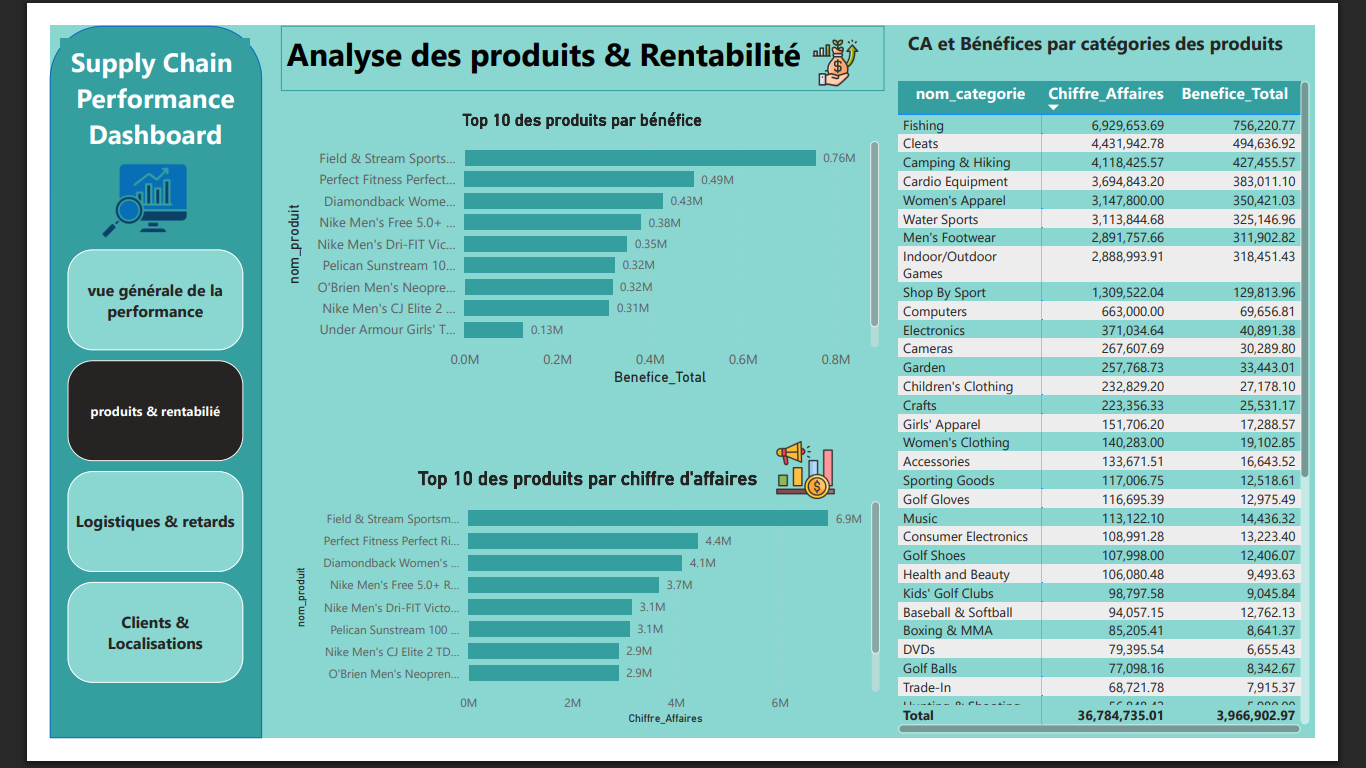

The dashboard page shown, as its layout file describes it:
{"tool":"powerbi","page":{"name":"produits & rentabilié","canvas":[1280,720],"ordinal":1},"visuals":[{"type":"textbox","box":[233.8,0,611.2,66.2],"z":0},{"type":"clusteredBarChart","title":"Top 10 des produits par chiffre d''affaires","fields":{"Category":["Produits.nom_produit"],"Y":["mesures.Chiffre_Affaires"]},"box":[243.8,446.2,601.2,265],"z":1000},{"type":"shape","box":[0,0,215,720],"z":2000},{"type":"clusteredBarChart","title":"Top 10 des produits par bénéfice","fields":{"Y":["mesures.Benefice_Total"],"Category":["Produits.nom_produit"]},"box":[233.8,85,610,282.5],"z":3000},{"type":"pivotTable","title":"Chiffre d''affaire et bénéfice par catégorie","fields":{"Rows":["Catégories.nom_categorie"],"Values":["mesures.Chiffre_Affaires","mesures.Benefice_Total"]},"box":[853.8,51.2,426.2,668.8],"z":4000},{"type":"textbox","box":[863.8,0,416.2,56.2],"z":5000},{"type":"pageNavigator","box":[17.5,226.2,178.8,440],"z":6000},{"type":"textbox","box":[11.2,12.5,191.2,141.2],"z":7000},{"type":"image","box":[48.8,110,95,131.2],"z":8000},{"type":"image","box":[771.2,0,48.8,75],"z":9000},{"type":"image","box":[733.8,413.8,62.5,70],"z":9001}]}

Visuals, with their boxes in screenshot pixels (x1, y1, x2, y2), scaled from the page's 1280x720 canvas onto the 1366x768 screenshot:
textbox: region(250, 0, 902, 71)
"Top 10 des produits par chiffre d''affaires" clusteredBarChart: region(260, 476, 902, 759)
shape: region(0, 0, 229, 767)
"Top 10 des produits par bénéfice" clusteredBarChart: region(250, 91, 900, 392)
"Chiffre d''affaire et bénéfice par catégorie" pivotTable: region(911, 55, 1365, 767)
textbox: region(922, 0, 1365, 60)
pageNavigator: region(19, 241, 209, 711)
textbox: region(12, 13, 216, 164)
image: region(52, 117, 153, 257)
image: region(823, 0, 875, 80)
image: region(783, 441, 850, 516)
